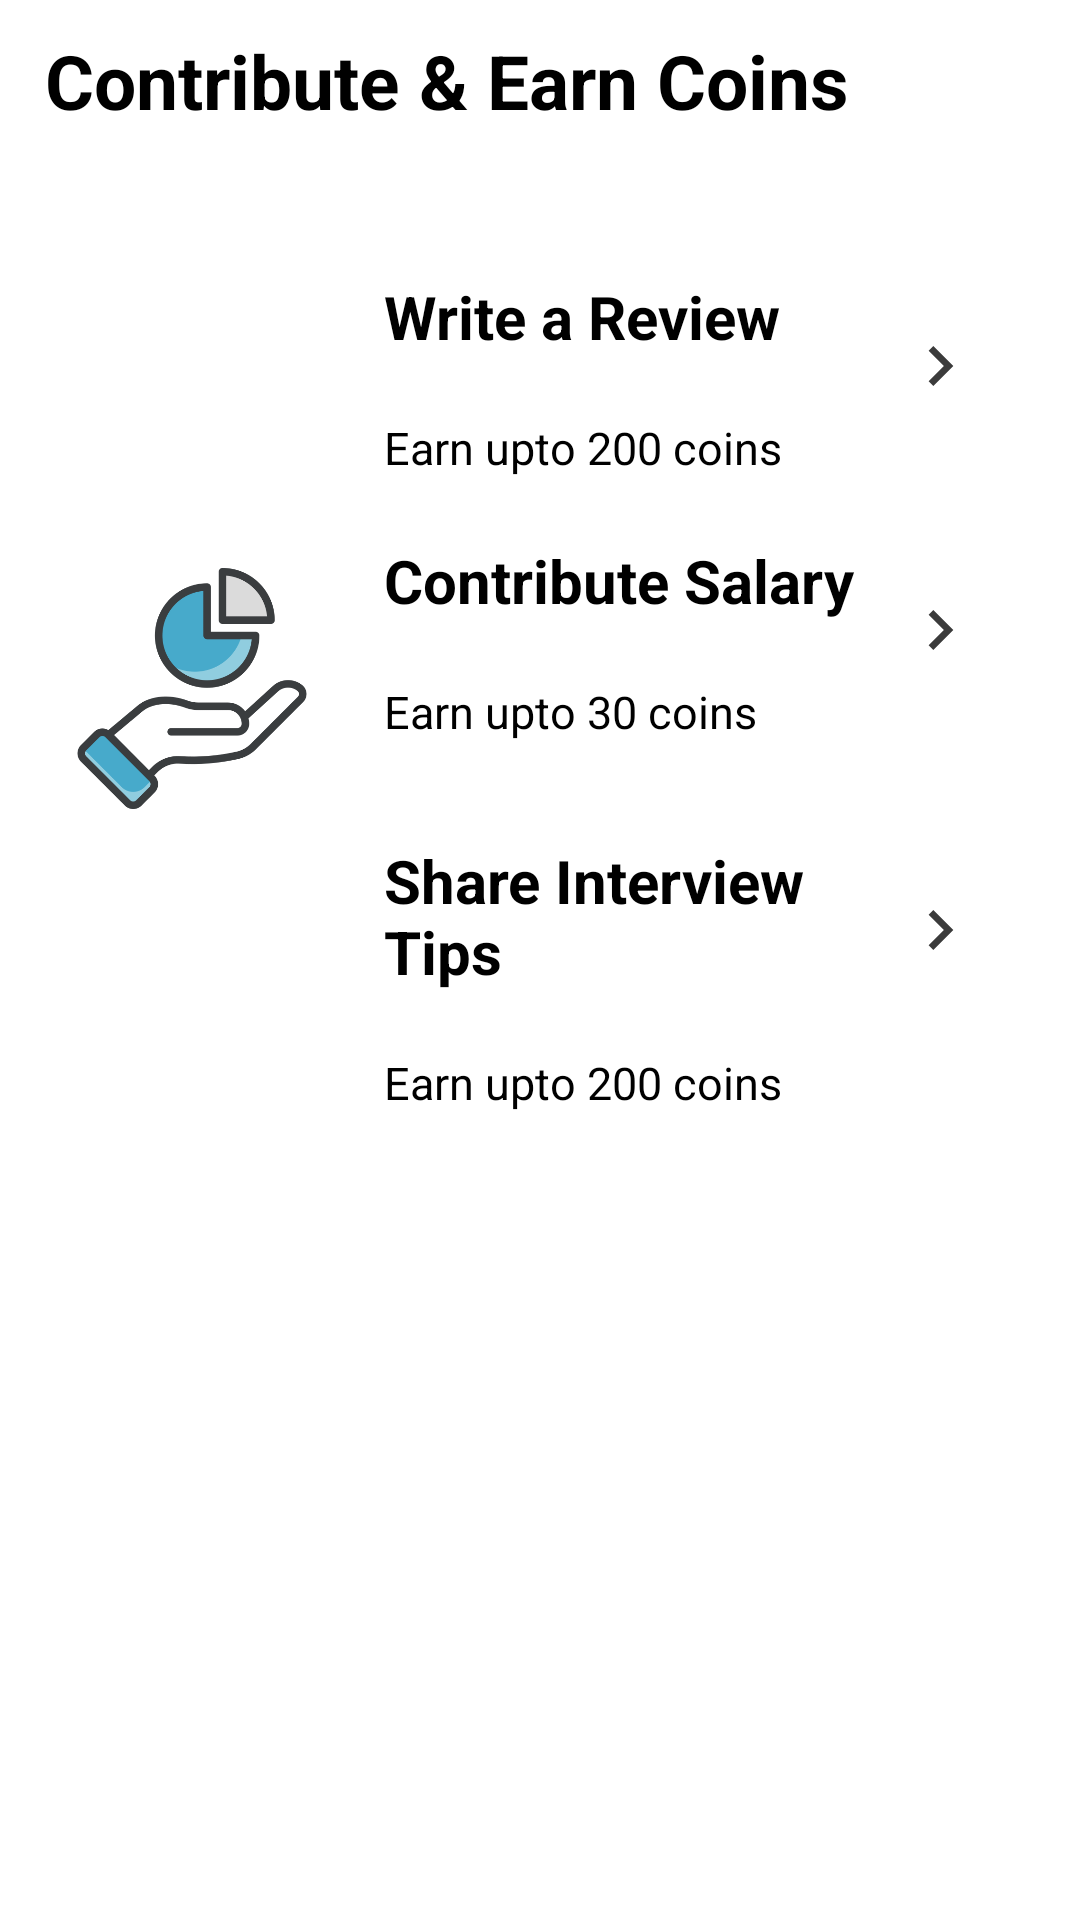

Icon bounding boxes for this 1080px x 1920px phone screenshot, format (x1, y1, x2, y2):
arrow: (929, 346, 953, 386), (929, 610, 953, 650), (929, 910, 953, 950)
contribution: (77, 568, 307, 809)
